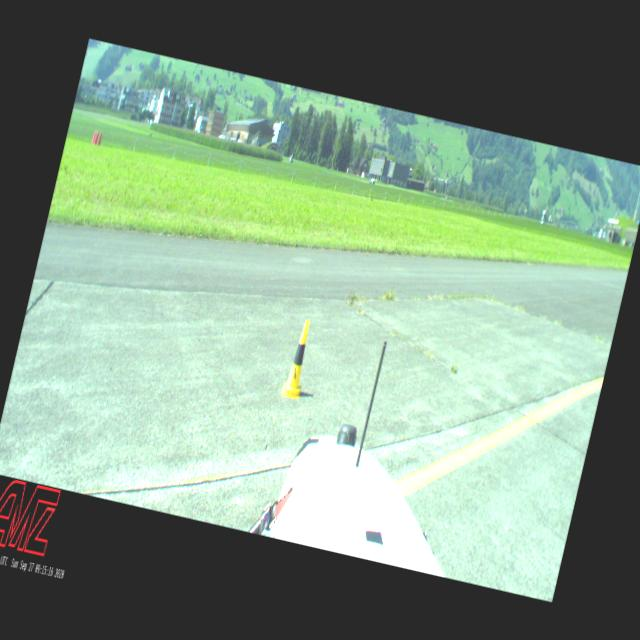yellow_cone: (280, 318, 316, 398)
